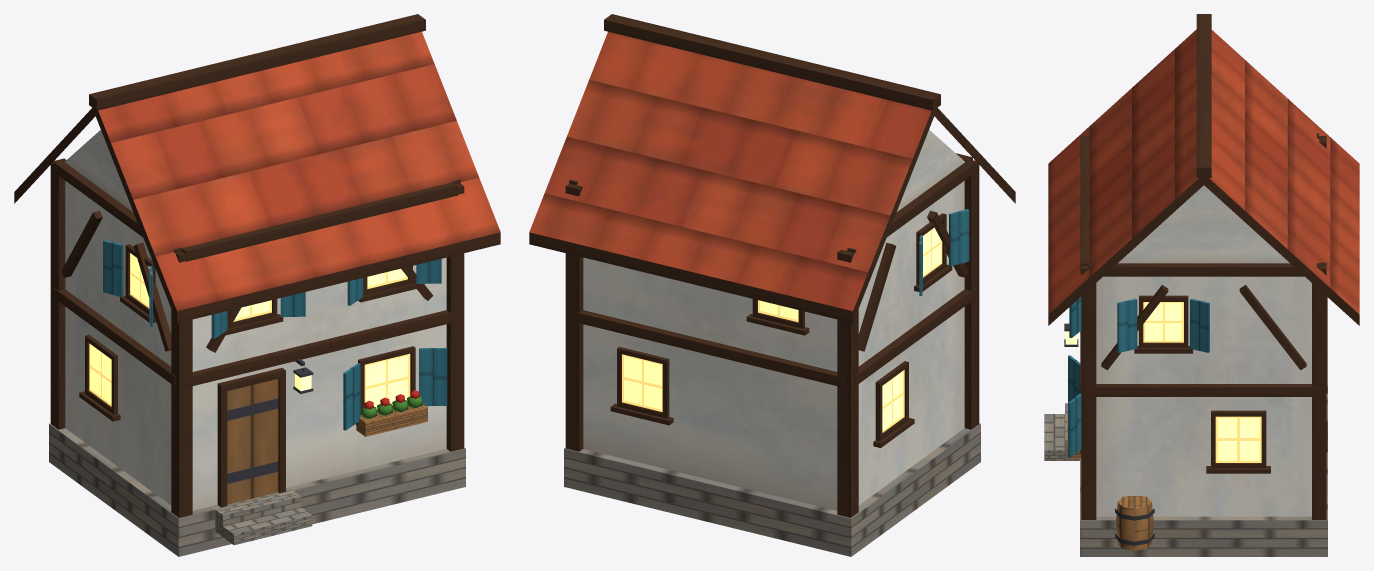
The model's file is house_0.glb.
3 views of the same model, side by side, from view 1: azimuth 30°, elevation 25°; view 2: azimuth 150°, elevation 25°; view 3: azimuth 270°, elevation 25° (orthographic). The views are drawn at different scales.
Parts seen in each view (by area): view 1: house_0; view 2: house_0; view 3: house_0.
Boxes of the visible parts, x1,y1,x2,y2 form: house_0: [14, 14, 500, 556]; house_0: [529, 14, 1015, 556]; house_0: [1044, 14, 1359, 556].
Size of the model in its own units: 6.34 by 7.64 by 5.47.
4 materials, 4 textured.
